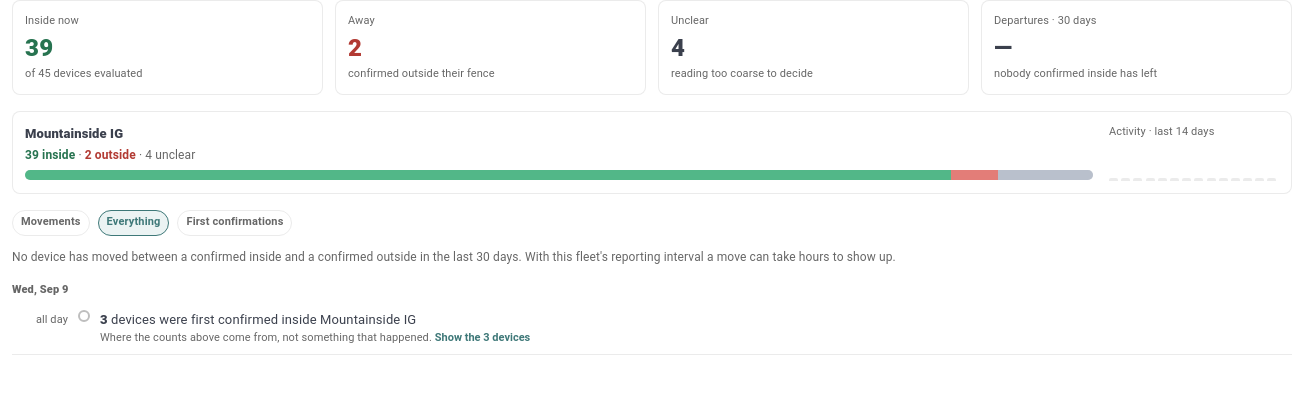
Test: RecentTransitions › …pero se pueden desplegar: contar no es esconder
The width and height of the screenshot is (1292, 398).
Step 1. Click the button "Show the 3 devices" → (483, 338), box [435,330,530,346]
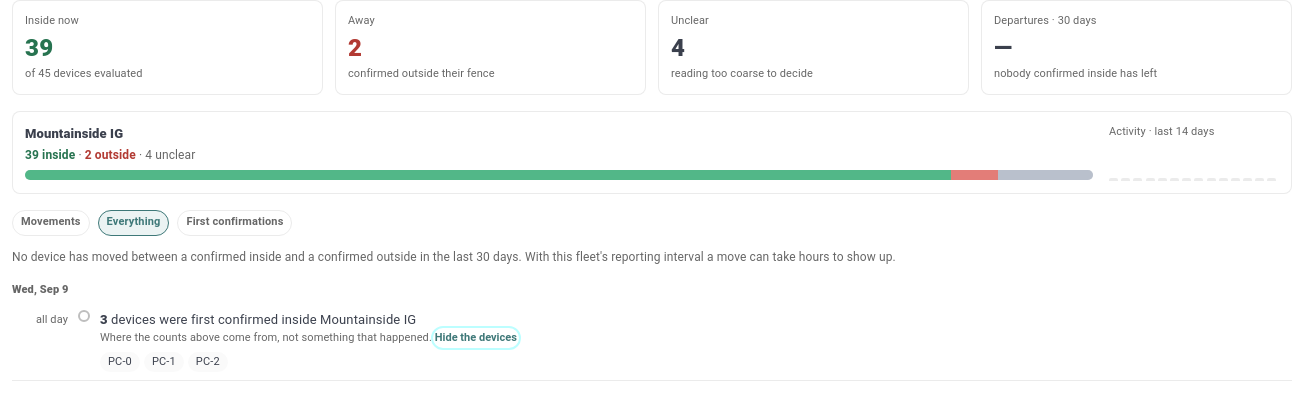
Now the text "PC-0" is shown, box [108,355,132,368]
Now the text "PC-2" is shown, box [196,355,220,368]
